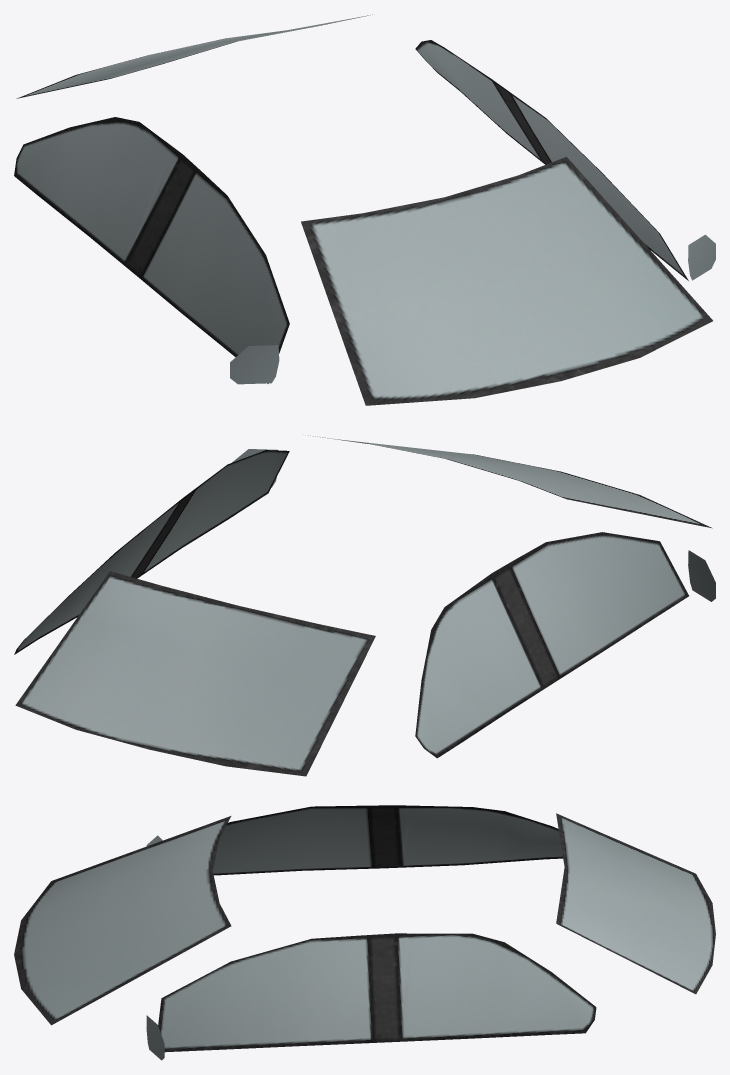
File: sedan_car_body_sedan_car_body_2_0.glb
3 views of the same model, one above another, from view 1: azimuth 30°, elevation 25°; view 2: azimuth 150°, elevation 25°; view 3: azimuth 270°, elevation 25° (orthographic). The views are drawn at different scales.
Parts seen in each view (by area): view 1: sedan_car_body_sedan_car_body_2_0; view 2: sedan_car_body_sedan_car_body_2_0; view 3: sedan_car_body_sedan_car_body_2_0.
Part boxes in pixels (x1,y1,x2,y2): sedan_car_body_sedan_car_body_2_0: (14,14,715,405); sedan_car_body_sedan_car_body_2_0: (14,435,715,776); sedan_car_body_sedan_car_body_2_0: (14,805,715,1060).
Bounding box in the file's own units: 2.17 × 0.4927 × 3.19.
Materials: 1 (1 with a texture image).
